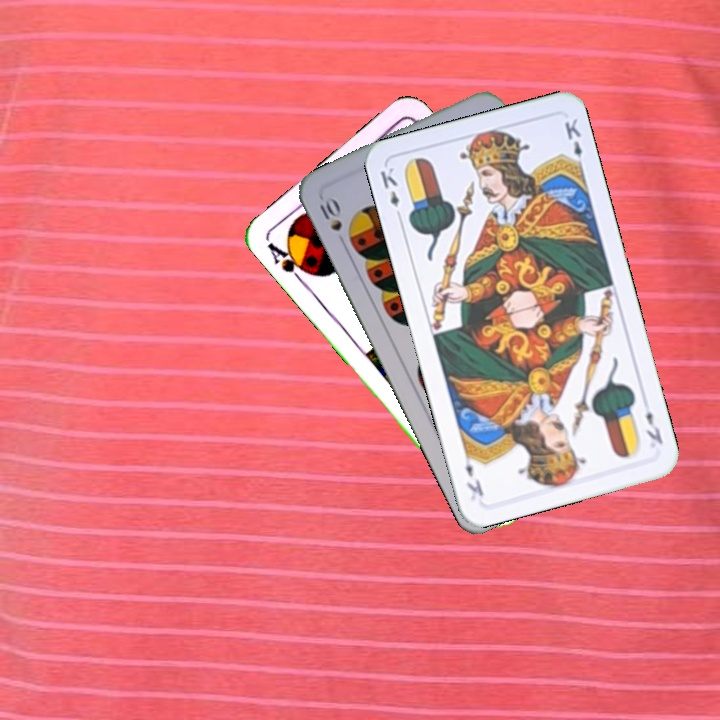EK: (376, 163, 405, 222), (642, 407, 666, 447)
S10: (315, 192, 345, 234)
SA: (263, 238, 315, 287)
